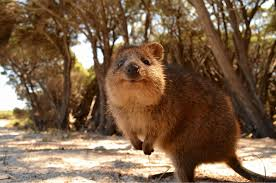quokka: (89, 31, 276, 183)
